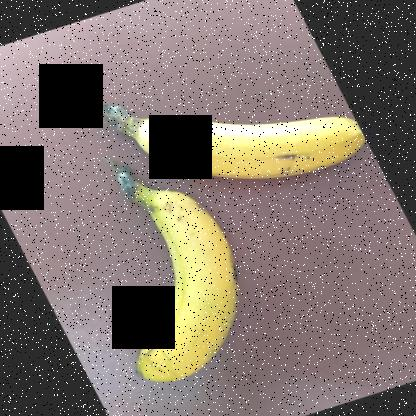freshripe: (111, 75, 406, 184), (130, 179, 261, 391)
